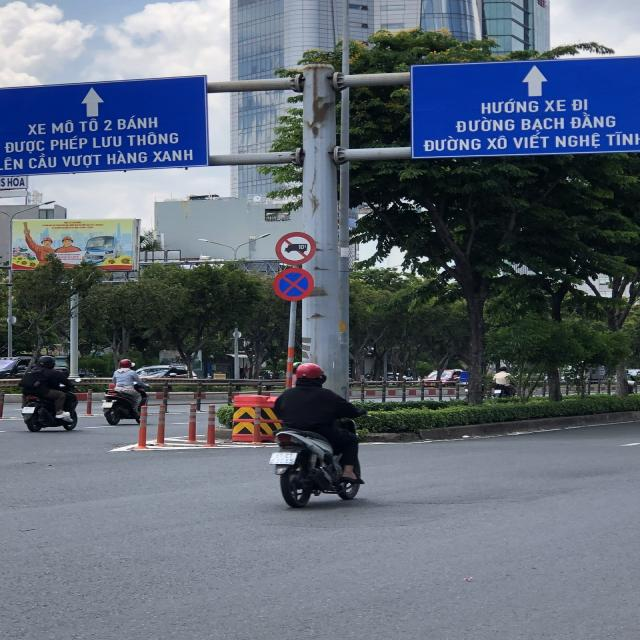Bien bao cam dung xe va do xe: (269, 267, 316, 302)
Bien bao cam xe oto tai: (271, 230, 322, 265)
